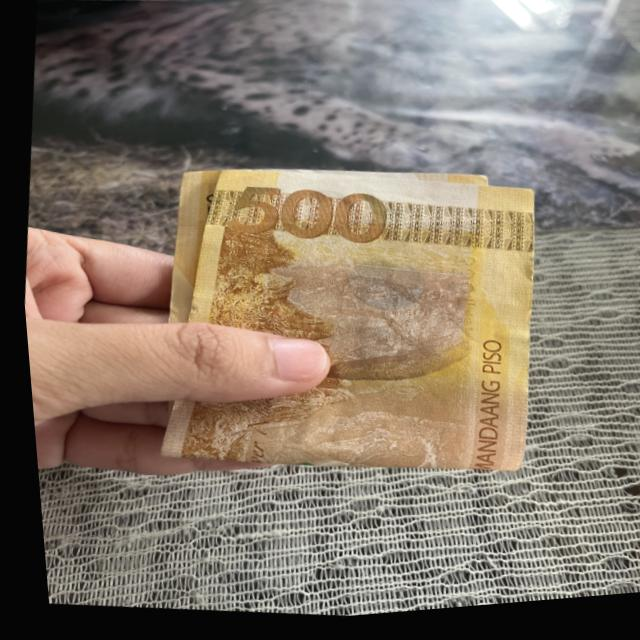value: (230, 176, 394, 261)
